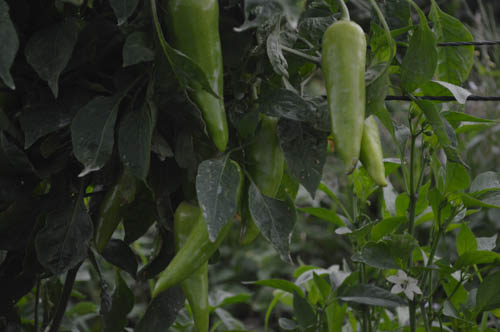ChiliPepper: (161, 1, 246, 155), (147, 205, 236, 305), (312, 16, 368, 173), (235, 107, 293, 253), (172, 200, 213, 331), (86, 167, 131, 253), (362, 113, 391, 190)
